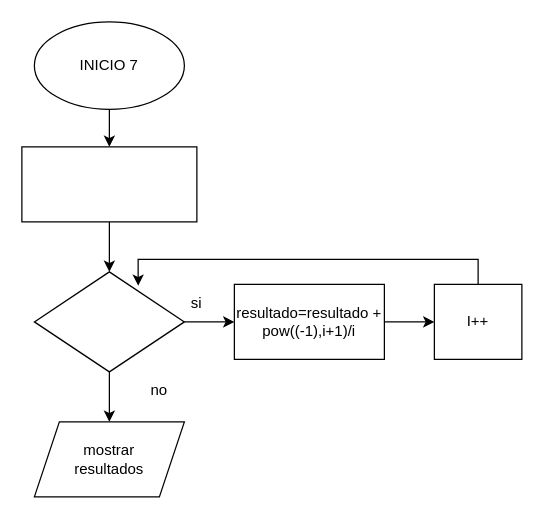
This 544x519 diagram has some shape labels left out. The shapes that lost their labels are listed below. From the top down, each one's centre as x and y in pixels, then its label:
(109,184): int n,double resultado=0
(108,321): int i=1, i<=n
